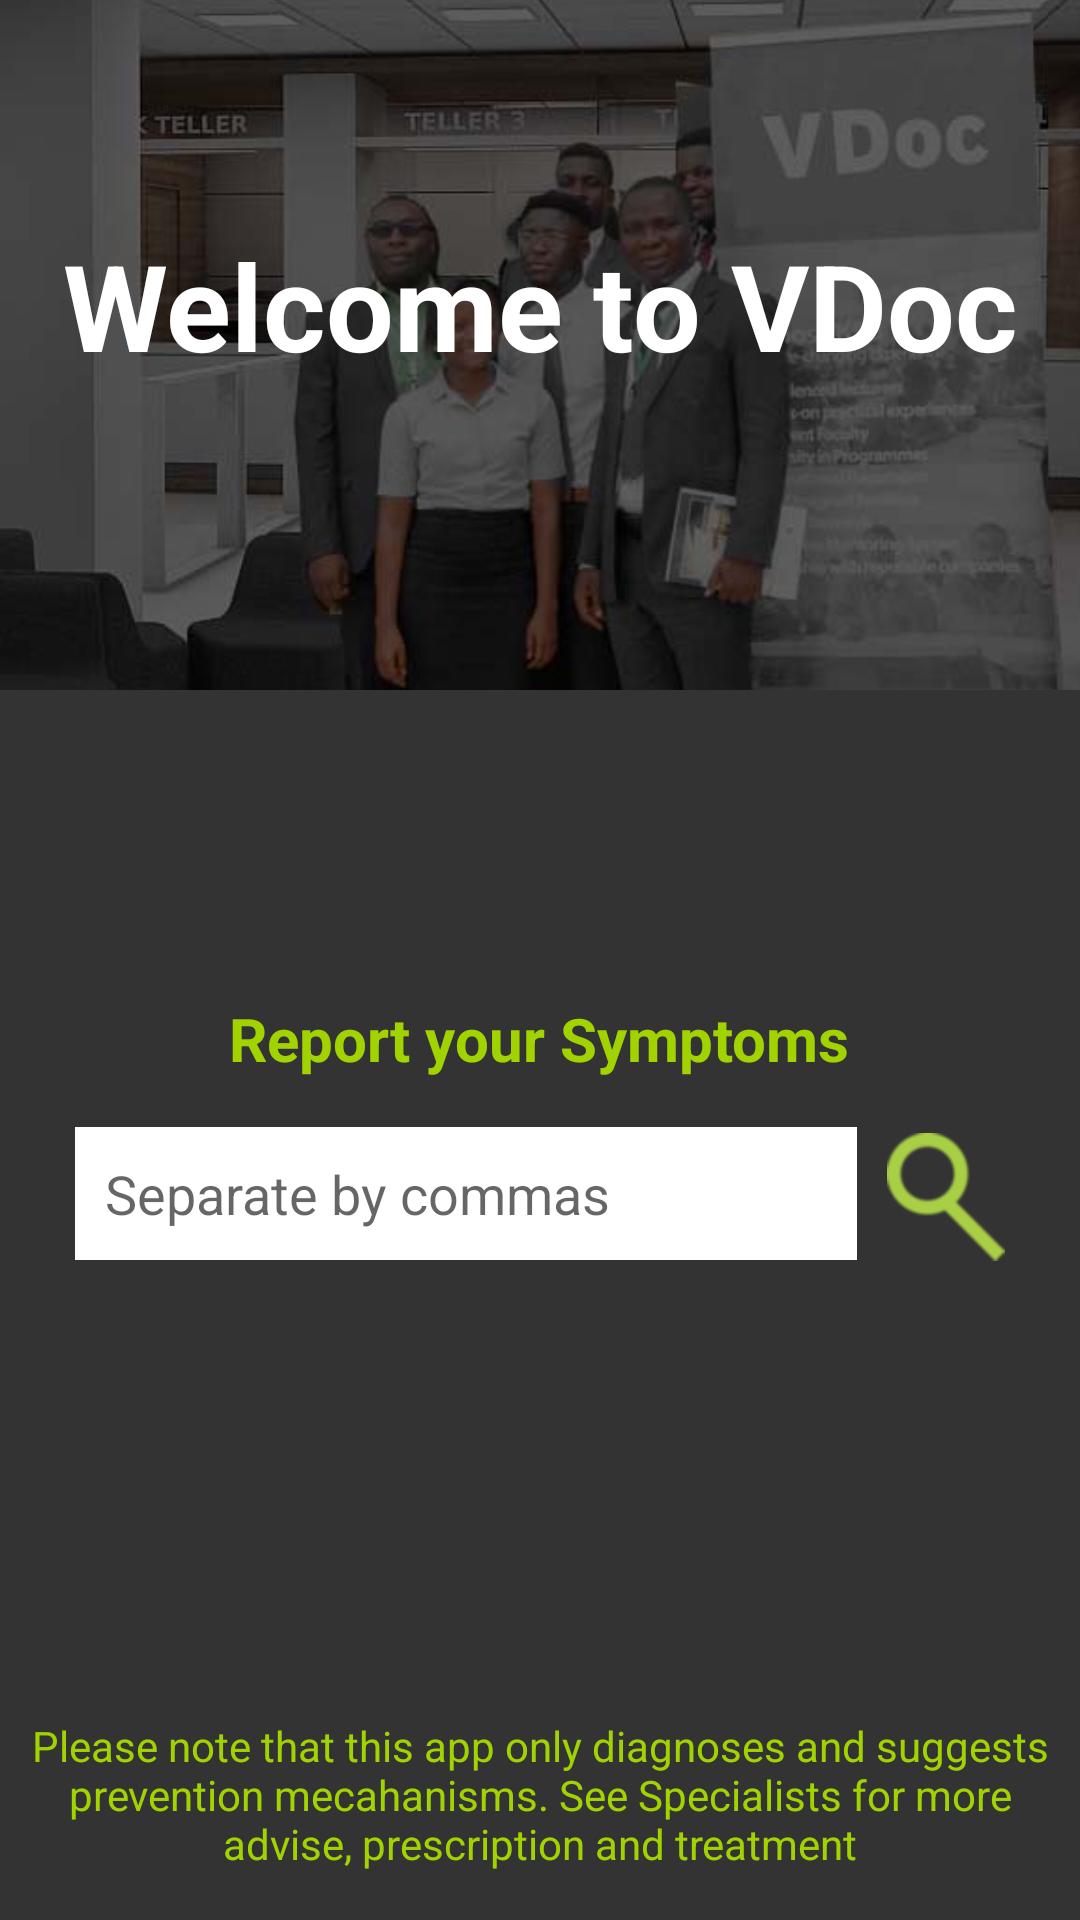

Locate icon controls on the screen. Image size 1080px×1920px, boxes as (x1, y1, x2, y2).
lupa: (887, 1133, 1005, 1261)
